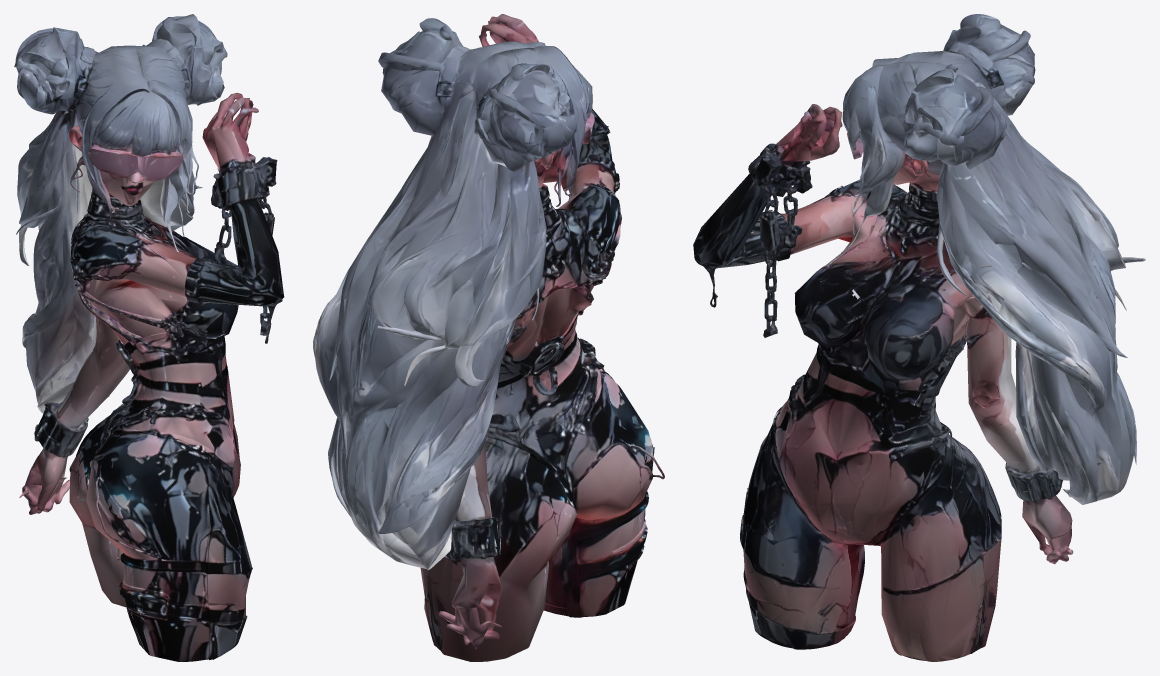
File: 01a19d7b-7d8c-75e0-afb2-5a6c20423526.glb
3 views of the same model, side by side, from view 1: azimuth 30°, elevation 25°; view 2: azimuth 150°, elevation 25°; view 3: azimuth 270°, elevation 25° (orthographic). The views are drawn at different scales.
Parts seen in each view (by area): view 1: model; view 2: model; view 3: model.
Boxes of the visible parts, x1,y1,x2,y2 form: model: (14, 14, 284, 661); model: (313, 14, 664, 661); model: (693, 14, 1145, 661).
Size of the model in its own units: 0.6989 by 1.89 by 1.31.
1 material, 1 textured.
